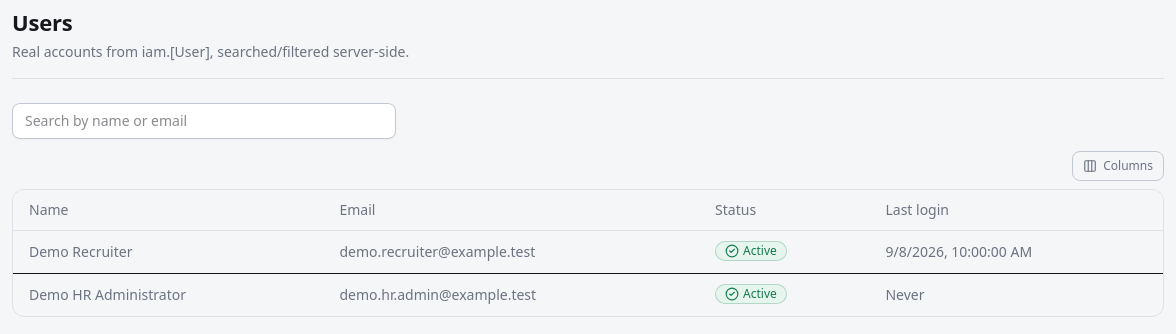
Scenario: AdminUsersListPage › filters via a real server-side search request, not a client-side re-render trick
This screenshot has width=1176, height=334.
Expected: the text "Demo Recruiter" is shown, [13,230,323,273]
In the search field named "search users": (204, 121) [12,103,396,139], type "hr admin"
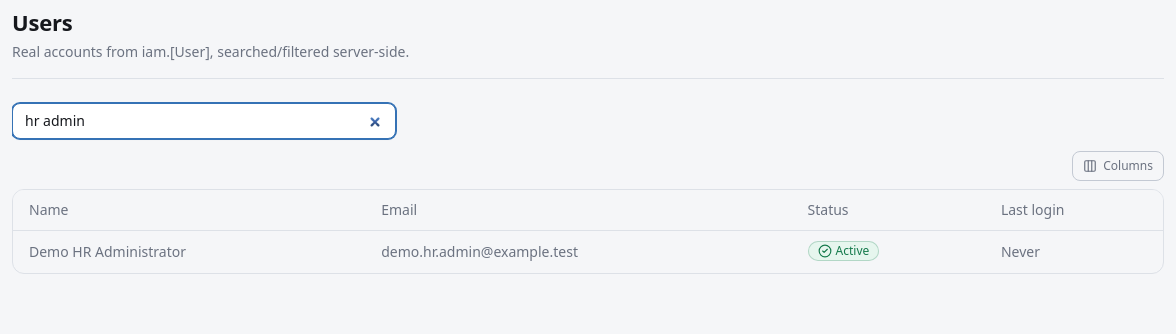
Expected: the text "Demo HR Administrator" is shown, [13,230,365,273]
Result: the text "Demo Recruiter" is gone
